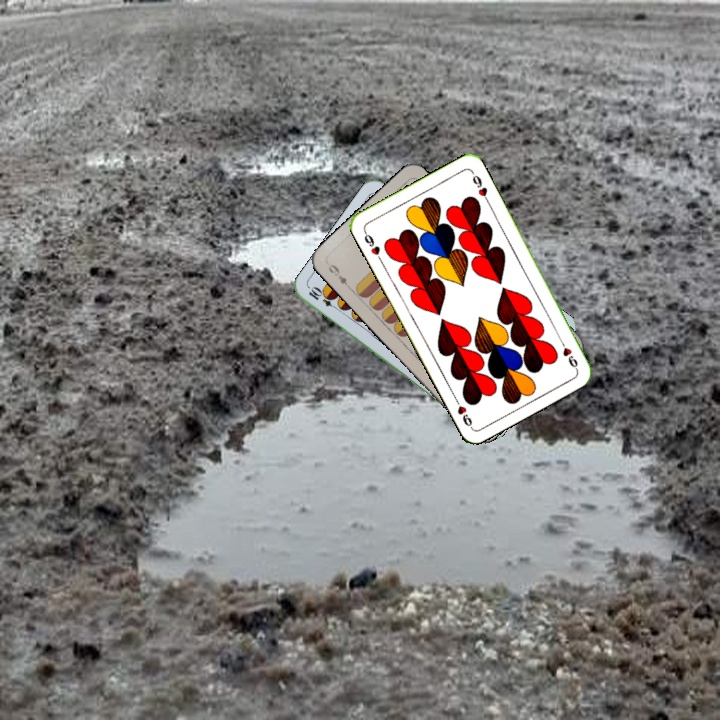E10: (305, 284, 342, 313)
E9: (324, 260, 354, 292)
H9: (555, 334, 580, 372), (360, 226, 384, 264)
